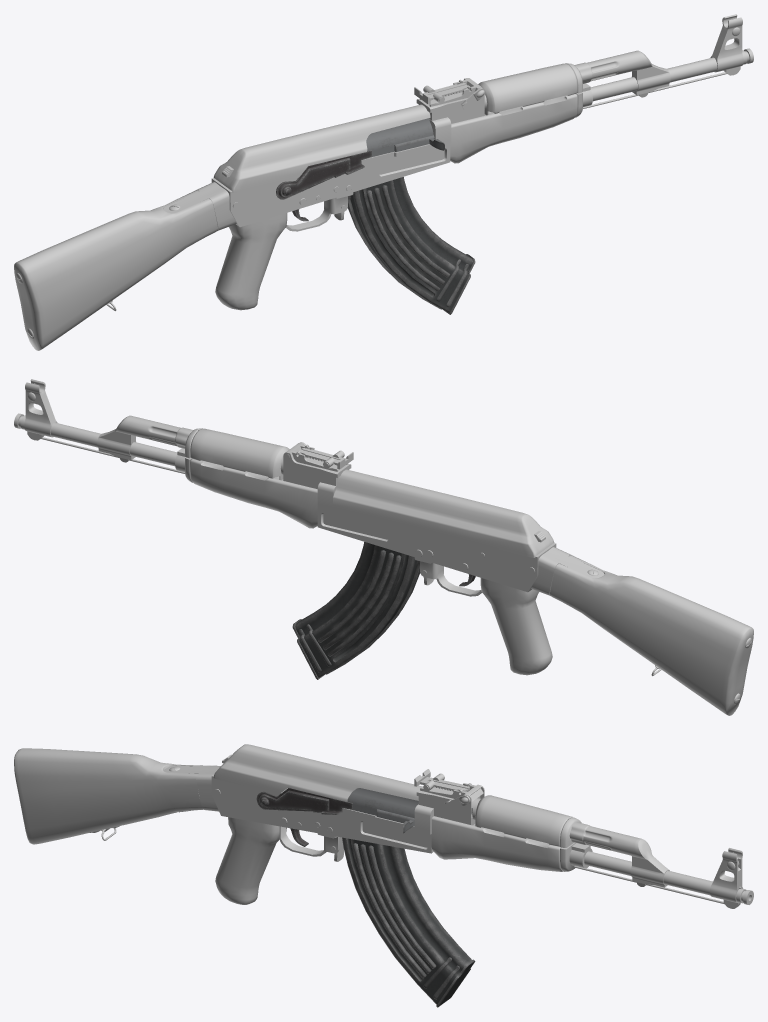
3 renders of one model, top to bottom at view 1: azimuth 30°, elevation 25°; view 2: azimuth 150°, elevation 25°; view 3: azimuth 330°, elevation 25°, orthographic.
Parts seen in each view (by area): view 1: stock_low, base_low, magazine_low, forearm_low, barrel_low, grip_low, rear sights_low, charging handle1_low, selector_low, front sight_low, bow_low; view 2: base_low, stock_low, magazine_low, forearm_low, barrel_low, grip_low, rear sights_low, front sight_low, bow_low; view 3: stock_low, base_low, magazine_low, forearm_low, barrel_low, grip_low, rear sights_low, charging handle1_low, selector_low, front sight_low, bow_low.
Boxes of the visible parts, box(x1,y1,x2,y2) form: stock_low: box(14, 182, 236, 350); base_low: box(211, 104, 451, 227); magazine_low: box(347, 177, 475, 314); forearm_low: box(450, 63, 582, 163); barrel_low: box(574, 48, 753, 108); grip_low: box(215, 213, 287, 310); rear sights_low: box(414, 78, 485, 123); charging handle1_low: box(366, 118, 444, 156); selector_low: box(276, 150, 371, 199); front sight_low: box(710, 14, 743, 72); bow_low: box(286, 196, 347, 231); base_low: box(317, 469, 556, 592); stock_low: box(531, 547, 753, 715); magazine_low: box(292, 542, 420, 679); forearm_low: box(185, 428, 317, 528); barrel_low: box(14, 413, 193, 473); grip_low: box(480, 578, 552, 675); rear sights_low: box(283, 442, 353, 488); front sight_low: box(24, 379, 57, 437); bow_low: box(420, 561, 481, 596); stock_low: box(14, 748, 220, 844); base_low: box(211, 744, 433, 853); magazine_low: box(342, 837, 475, 1007); forearm_low: box(431, 795, 581, 871); barrel_low: box(569, 822, 753, 908); grip_low: box(215, 817, 286, 904); rear sights_low: box(414, 769, 484, 825); charging handle1_low: box(347, 788, 472, 833); selector_low: box(256, 788, 352, 814); front sight_low: box(710, 848, 743, 903); bow_low: box(279, 826, 339, 856).
Size of the model in its own units: 4.22 by 1.23 by 0.3075.
